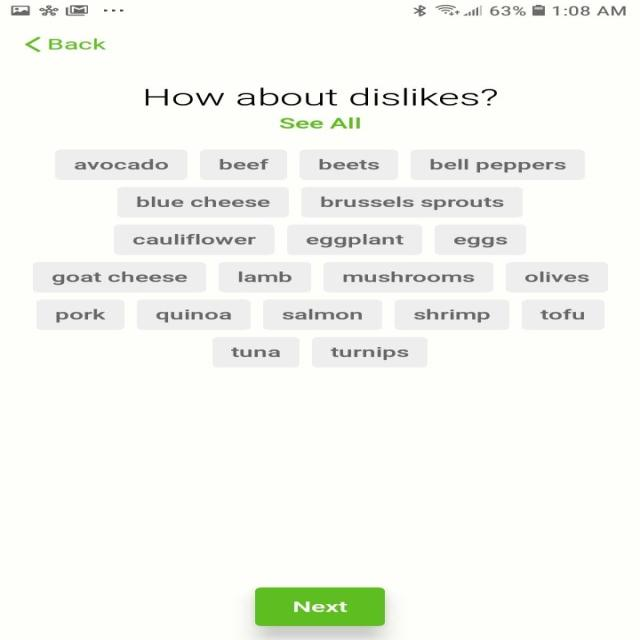Icon: (25, 36, 42, 53)
Text: (145, 87, 497, 106), (279, 117, 360, 129), (48, 38, 106, 50)
TextButton: (300, 186, 522, 218), (116, 186, 289, 218), (410, 149, 585, 180), (32, 262, 206, 292), (113, 224, 275, 256), (254, 587, 385, 626), (323, 262, 493, 292), (286, 224, 422, 255), (54, 149, 188, 180), (262, 299, 382, 330), (311, 336, 428, 367), (394, 299, 509, 330), (136, 299, 251, 330), (298, 149, 398, 180), (504, 262, 607, 292), (434, 224, 526, 255), (218, 262, 312, 292), (199, 149, 287, 180), (36, 299, 124, 330), (212, 337, 300, 368), (520, 299, 604, 330)
